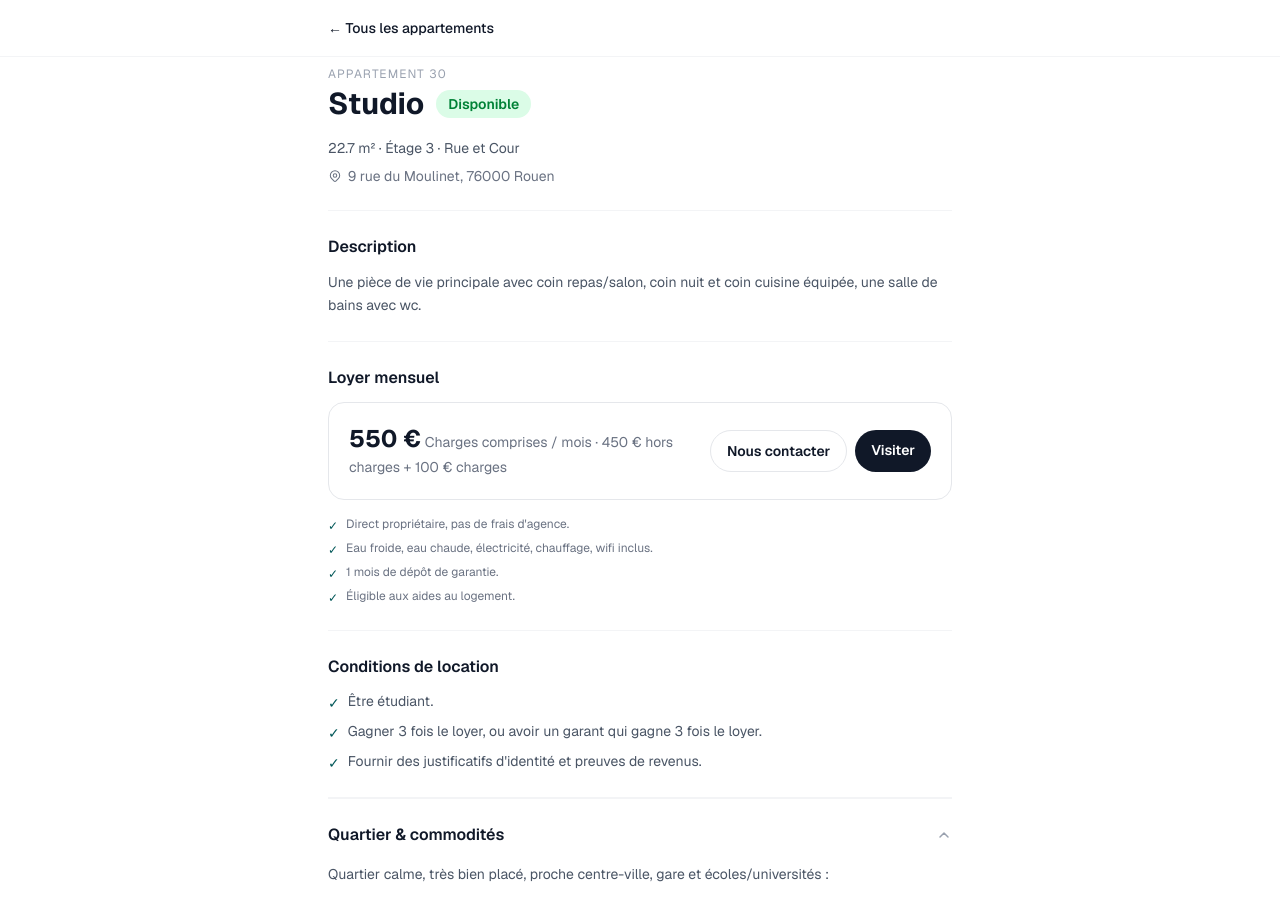
it: ApartmentDetail — rendu › révèle l'email au clic sur "Nous contacter"
(page scrolled)
Click the button "Nous contacter" at coordinates (779, 450), box [710,430,847,472]
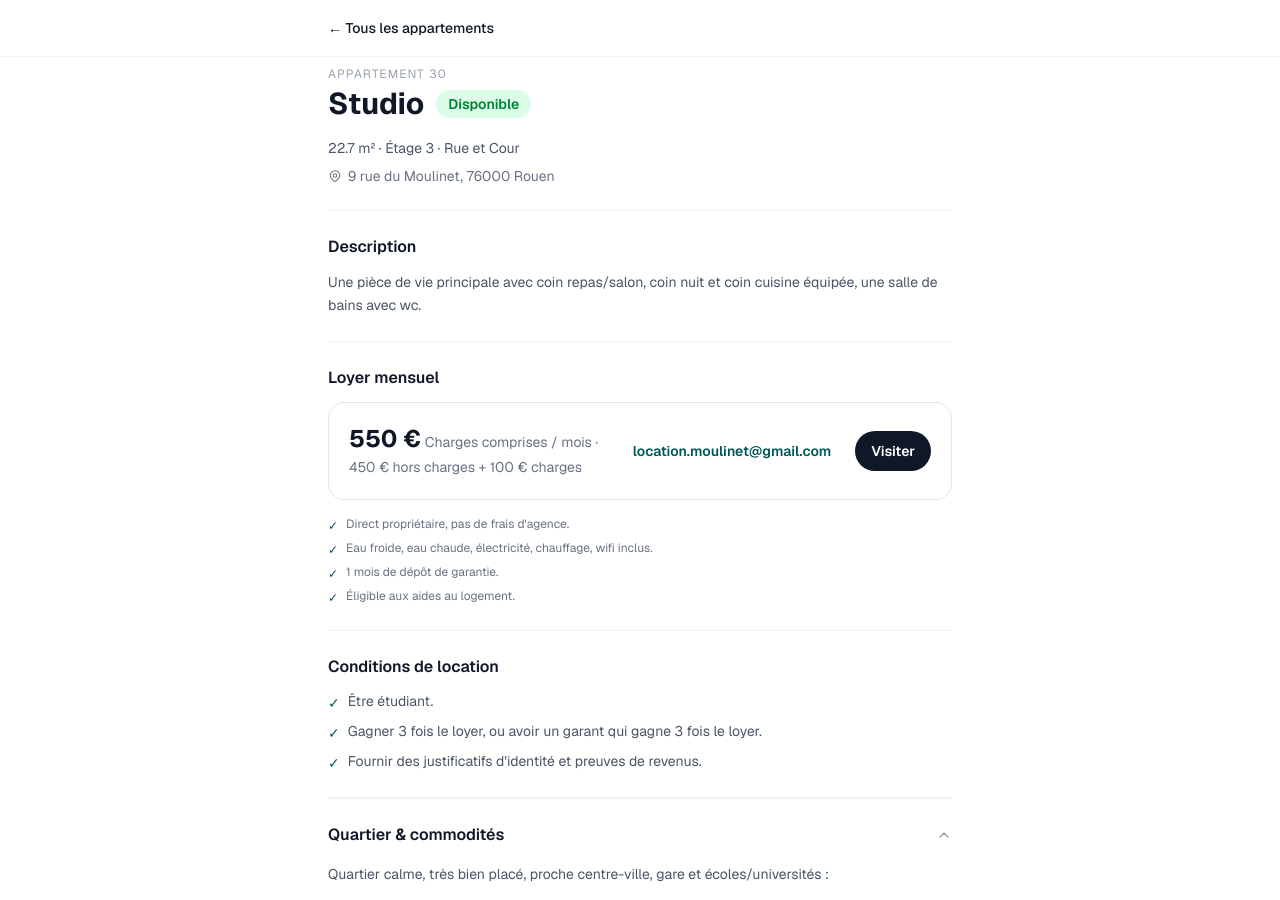
Result: the link "location.moulinet@gmail.com" is shown at [633,442,831,460]
